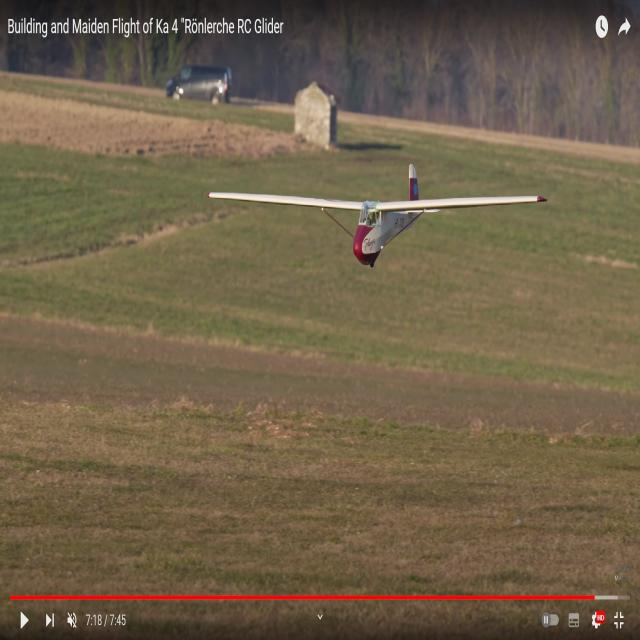iha: (209, 195, 547, 238)
